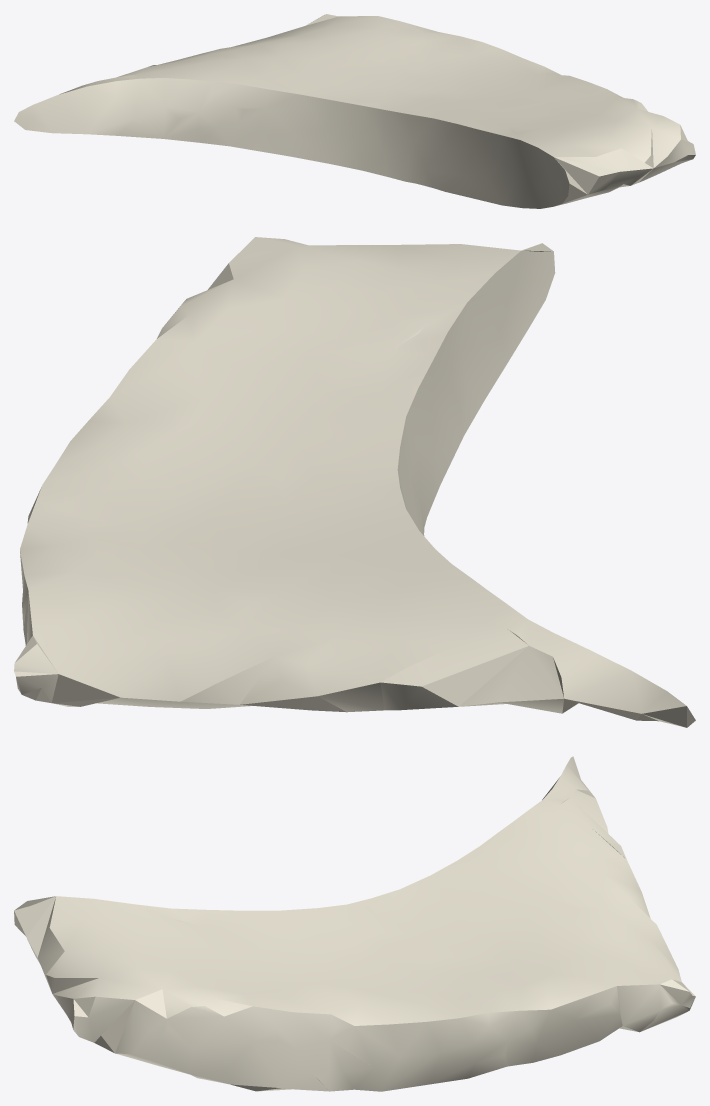
File: fma38901_mm1574m.glb
The picture shows the model from 3 angles, top to bottom: view 1: azimuth 30°, elevation 25°; view 2: azimuth 150°, elevation 25°; view 3: azimuth 270°, elevation 25°; orthographic projection. The views are drawn at different scales.
Visible parts, largest first — view 1: FMA38901_MM1574M; view 2: FMA38901_MM1574M; view 3: FMA38901_MM1574M.
Boxes of the visible parts, x1,y1,x2,y2 form: FMA38901_MM1574M: (14, 14, 695, 208); FMA38901_MM1574M: (14, 237, 695, 727); FMA38901_MM1574M: (14, 756, 695, 1091).
Size of the model in its own units: 0.00916 by 0.00187 by 0.00956.
